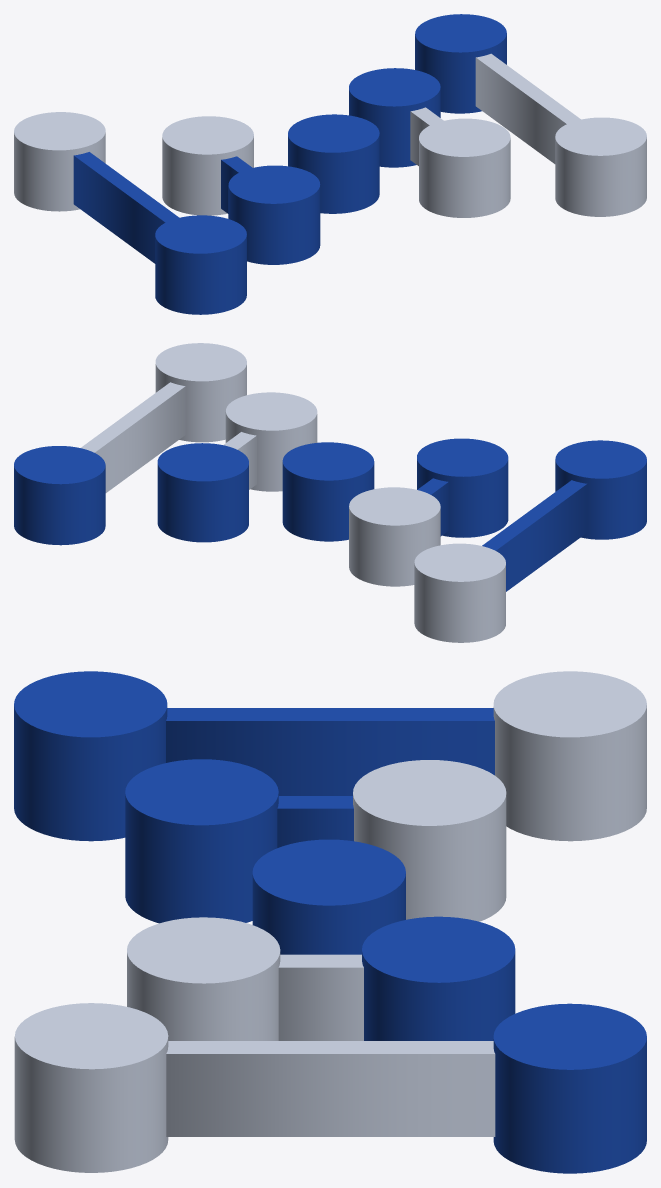
Rendered from elekrotate.glb.
3 views of the same model, one above another, from view 1: azimuth 30°, elevation 25°; view 2: azimuth 150°, elevation 25°; view 3: azimuth 270°, elevation 25° (orthographic). The views are drawn at different scales.
Visible parts, largest first — view 1: eTFZ5RyGuej8, eTFZ5RyGuej6, eTFZ5RyGuej4, eTFZ5RyGuej10, eTFZ5RyGuej3, eTFZ5RyGuej7, eTFZ5RyGuej11, eTFZ5RyGuej5, eTFZ5RyGuej9, Curve, Curve.001, Curve.002 (+1 smaller); view 2: eTFZ5RyGuej7, eTFZ5RyGuej9, eTFZ5RyGuej5, eTFZ5RyGuej11, eTFZ5RyGuej3, eTFZ5RyGuej10, eTFZ5RyGuej6, eTFZ5RyGuej4, eTFZ5RyGuej8, Curve, Curve.001, Curve.002 (+1 smaller); view 3: Curve.001, eTFZ5RyGuej4, eTFZ5RyGuej5, eTFZ5RyGuej7, eTFZ5RyGuej10, eTFZ5RyGuej6, Curve, eTFZ5RyGuej11, eTFZ5RyGuej9, eTFZ5RyGuej8, eTFZ5RyGuej3, Curve.002 (+1 smaller).
Part boxes in pixels (box(x1,y1,x2,y2)): eTFZ5RyGuej8: box(419, 118, 510, 217); eTFZ5RyGuej6: box(155, 215, 246, 314); eTFZ5RyGuej4: box(555, 117, 646, 216); eTFZ5RyGuej10: box(228, 165, 320, 264); eTFZ5RyGuej3: box(288, 114, 379, 213); eTFZ5RyGuej7: box(14, 112, 105, 211); eTFZ5RyGuej11: box(162, 116, 253, 215); eTFZ5RyGuej5: box(415, 14, 506, 113); eTFZ5RyGuej9: box(349, 68, 440, 167); Curve: box(73, 152, 179, 263); Curve.001: box(475, 53, 580, 163); Curve.002: box(410, 107, 443, 165); eTFZ5RyGuej7: box(414, 543, 505, 642); eTFZ5RyGuej9: box(157, 443, 248, 542); eTFZ5RyGuej5: box(14, 446, 105, 545); eTFZ5RyGuej11: box(349, 487, 440, 586); eTFZ5RyGuej3: box(282, 442, 374, 541); eTFZ5RyGuej10: box(417, 438, 508, 537); eTFZ5RyGuej6: box(555, 440, 646, 539); eTFZ5RyGuej4: box(155, 343, 246, 442); eTFZ5RyGuej8: box(225, 392, 317, 491); Curve: box(482, 480, 587, 591); Curve.001: box(81, 382, 185, 492); Curve.002: box(223, 432, 256, 489); Curve.001: box(166, 1041, 495, 1136); eTFZ5RyGuej4: box(14, 1003, 168, 1172); eTFZ5RyGuej5: box(493, 1003, 646, 1173); eTFZ5RyGuej7: box(493, 671, 646, 841); eTFZ5RyGuej10: box(125, 759, 278, 923); eTFZ5RyGuej6: box(14, 671, 167, 841); Curve: box(166, 708, 494, 795); eTFZ5RyGuej11: box(353, 760, 506, 921); eTFZ5RyGuej9: box(362, 916, 515, 1040); eTFZ5RyGuej8: box(127, 917, 280, 1040); eTFZ5RyGuej3: box(252, 839, 405, 954); Curve.002: box(278, 954, 363, 1040).
Bounding box in the file's own units: 222 × 26.95 × 149.
